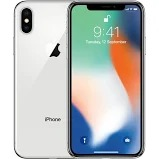iphone6: (11, 1, 147, 158), (67, 1, 145, 158), (12, 1, 69, 157)
